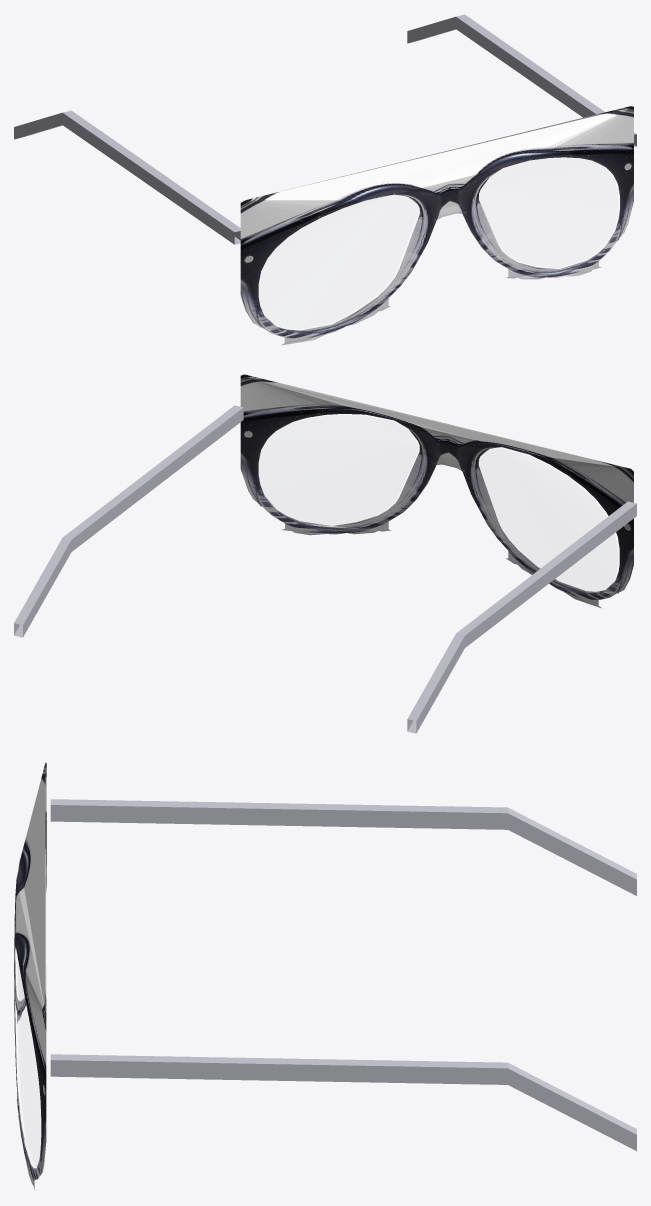
File: gothamstyle-245_black-fade.glb
The picture shows the model from 3 angles, top to bottom: view 1: azimuth 30°, elevation 25°; view 2: azimuth 150°, elevation 25°; view 3: azimuth 270°, elevation 25°; orthographic projection. The views are drawn at different scales.
Visible parts, largest first — view 1: frame_front, temple_viewer_left, temple_viewer_right; view 2: frame_front, temple_viewer_right, temple_viewer_left; view 3: temple_viewer_right, temple_viewer_left, frame_front.
Boxes of the visible parts, x1=… form: frame_front: x1=240, y1=106, x2=633, y2=345; temple_viewer_left: x1=14, y1=110, x2=240, y2=244; temple_viewer_right: x1=407, y1=14, x2=636, y2=147; frame_front: x1=240, y1=374, x2=633, y2=608; temple_viewer_right: x1=14, y1=405, x2=243, y2=637; temple_viewer_left: x1=407, y1=501, x2=636, y2=733; temple_viewer_right: x1=50, y1=1054, x2=636, y2=1151; temple_viewer_left: x1=50, y1=799, x2=636, y2=895; frame_front: x1=14, y1=762, x2=46, y2=1190.
Bounding box in the file's own units: 0.1348 × 0.0484 × 0.136.
3 materials, 2 textured.
